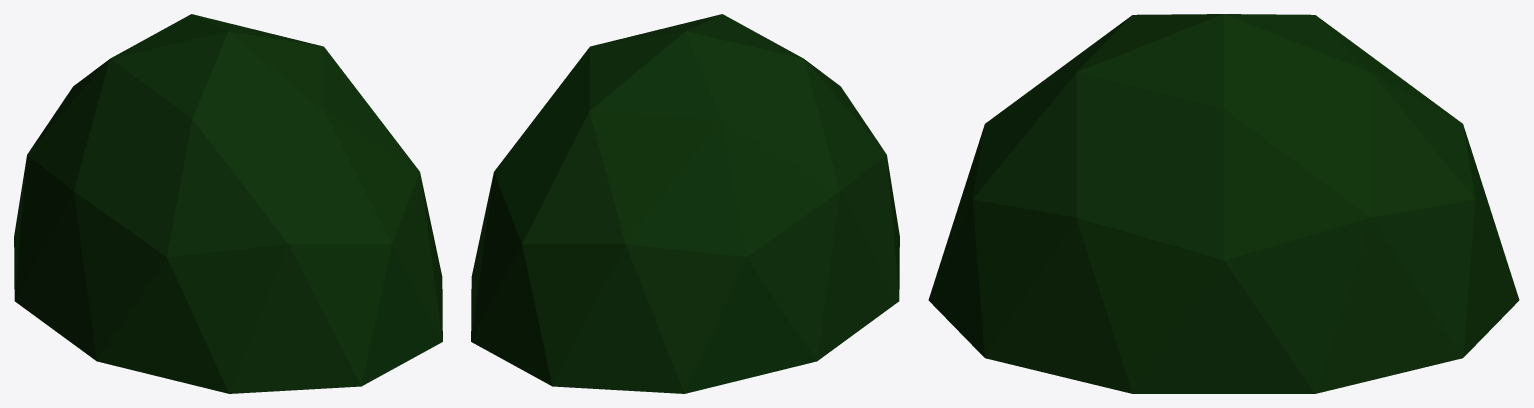
The model's file is arbusto3.FBX.
The picture shows the model from 3 angles, left to right: view 1: azimuth 30°, elevation 25°; view 2: azimuth 150°, elevation 25°; view 3: azimuth 270°, elevation 25°; orthographic projection. The views are drawn at different scales.
Parts seen in each view (by area): view 1: GeoSphere003; view 2: GeoSphere003; view 3: GeoSphere003.
Boxes of the visible parts, <box> form: GeoSphere003: <box>14,14,442,393</box>; GeoSphere003: <box>471,14,899,393</box>; GeoSphere003: <box>928,14,1519,393</box>.
Bounding box in the file's own units: 105 × 74.72 × 140.
